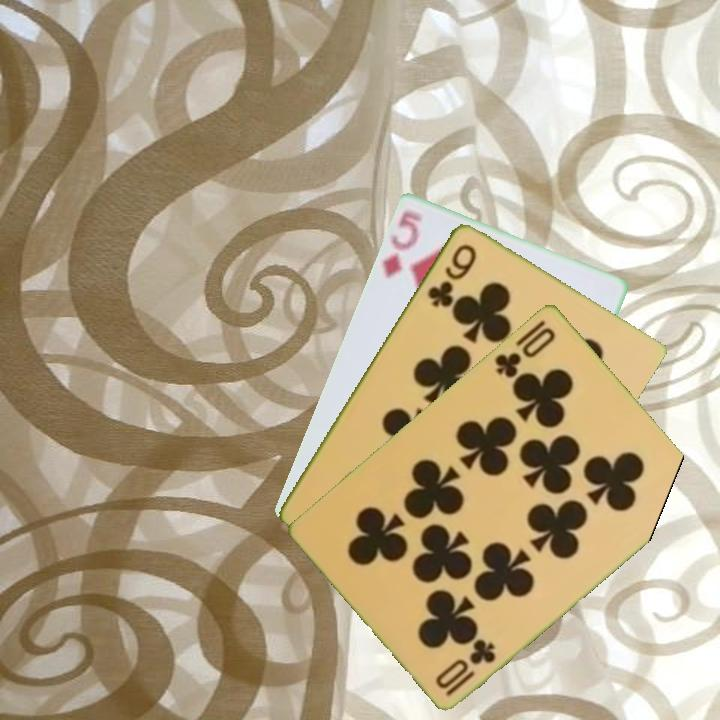10c: (432, 634, 499, 699), (491, 323, 559, 381)
5d: (379, 206, 425, 280)
9c: (423, 239, 480, 310)
